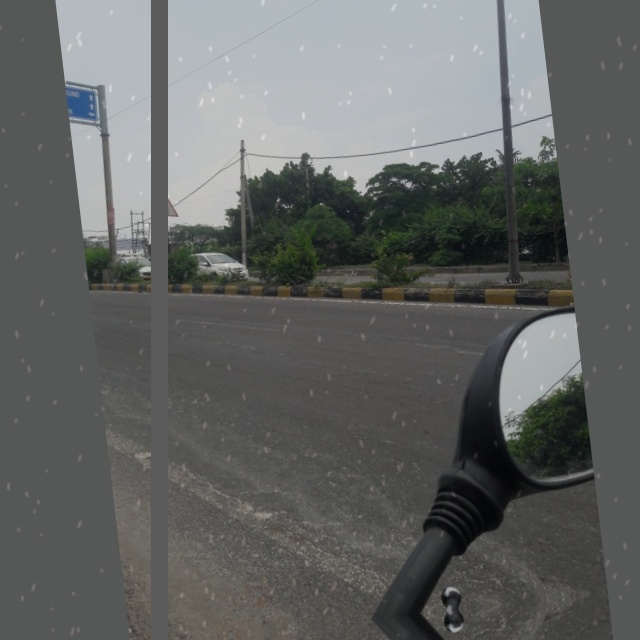Gap_in_Median: (152, 188, 181, 222)
